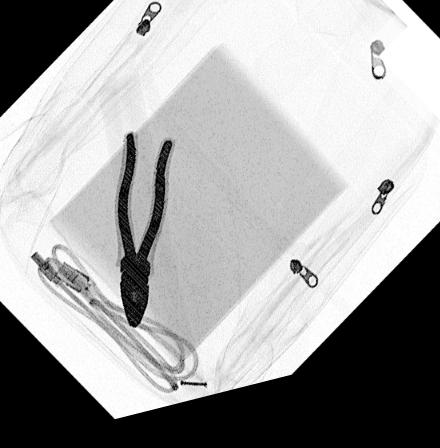Pliers: (112, 136, 179, 337)
